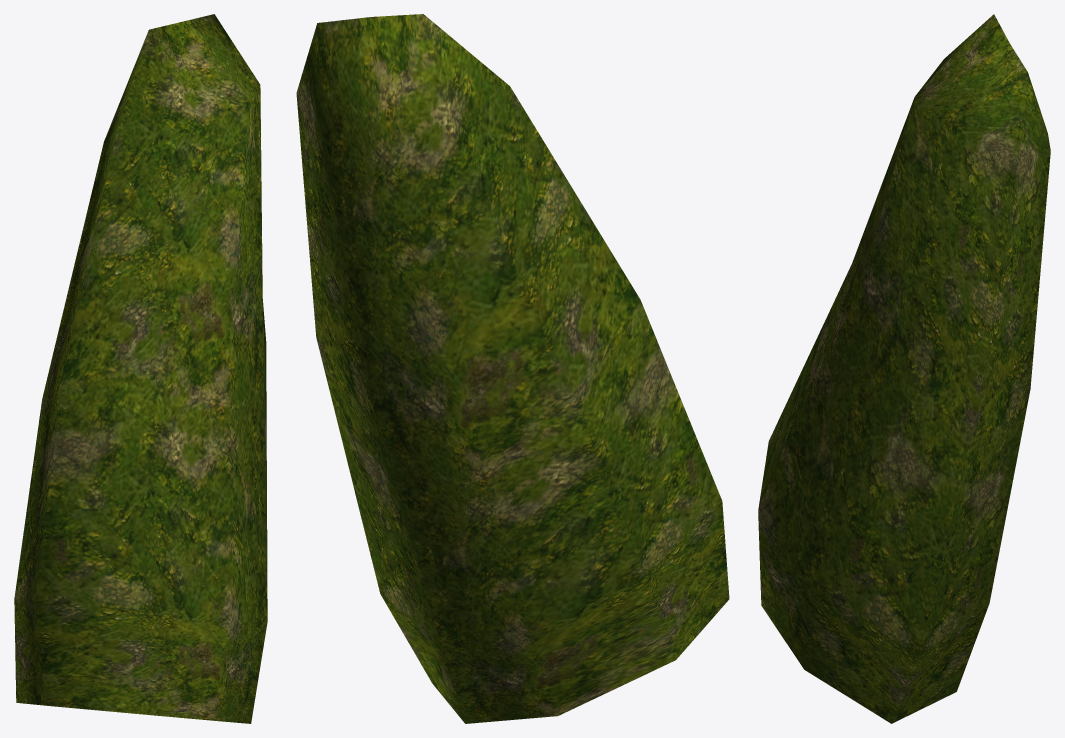
Rendered from OVERHILL_A_01_BR_ROCK206.fbx.
The picture shows the model from 3 angles, left to right: view 1: azimuth 30°, elevation 25°; view 2: azimuth 150°, elevation 25°; view 3: azimuth 270°, elevation 25°; orthographic projection. The views are drawn at different scales.
Parts seen in each view (by area): view 1: OVERHILL_A_01_BR_ROCK206; view 2: OVERHILL_A_01_BR_ROCK206; view 3: OVERHILL_A_01_BR_ROCK206.
Part boxes in pixels (x1,y1,x2,y2): OVERHILL_A_01_BR_ROCK206: [14, 14, 267, 723]; OVERHILL_A_01_BR_ROCK206: [296, 14, 729, 723]; OVERHILL_A_01_BR_ROCK206: [758, 14, 1050, 723].
Bounding box in the file's own units: 33833 × 71027 × 27341.
Materials: 1 (1 with a texture image).
